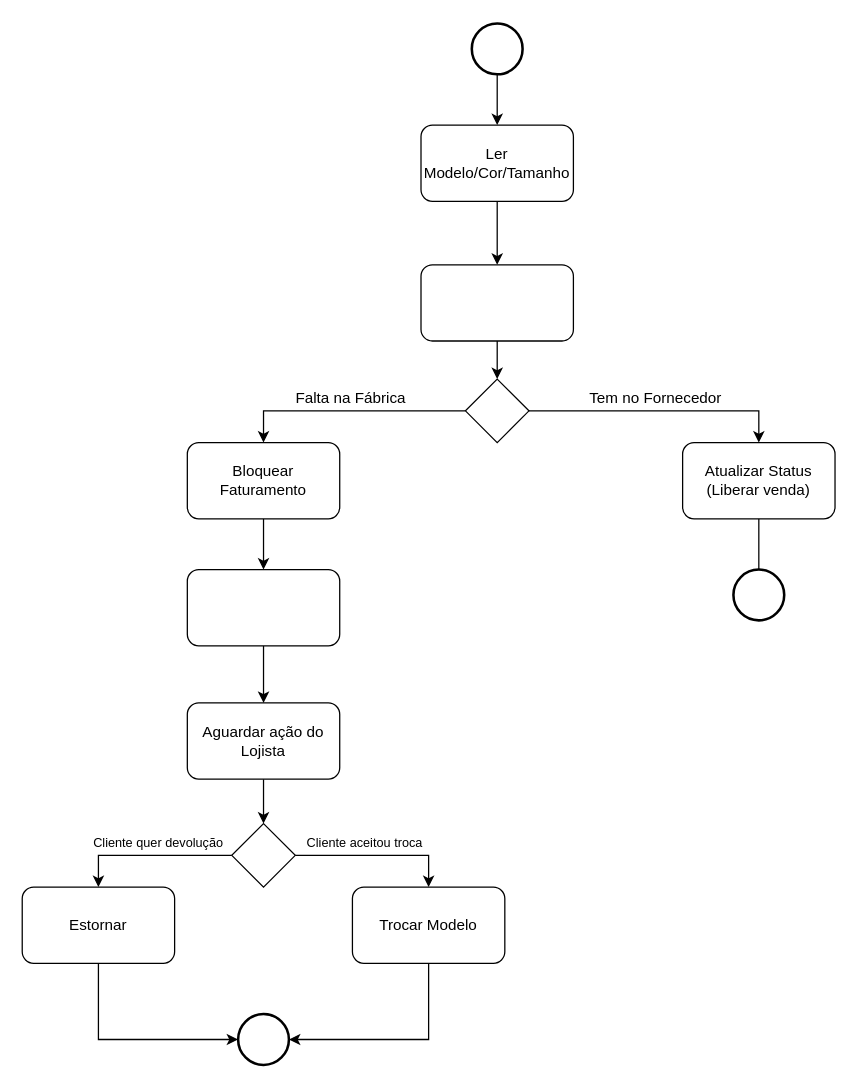
Image size: 857x1087. Some labels were removed from this diagram. The shapes that lost their labels are listed below. From the top down, each one's box as (x1, y1, x2, y2) in pixels, then its label:
(420, 264, 573, 341): Comparar com Banco do Fornecedor
(186, 568, 340, 646): 🚨Gerar Alerta Vermelho
